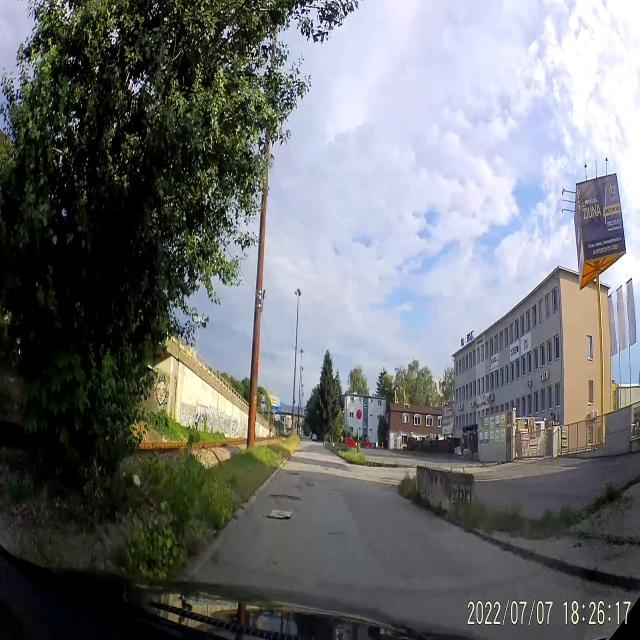Pothole: (266, 491, 302, 506), (328, 528, 344, 538), (289, 469, 299, 477), (306, 482, 316, 489)
